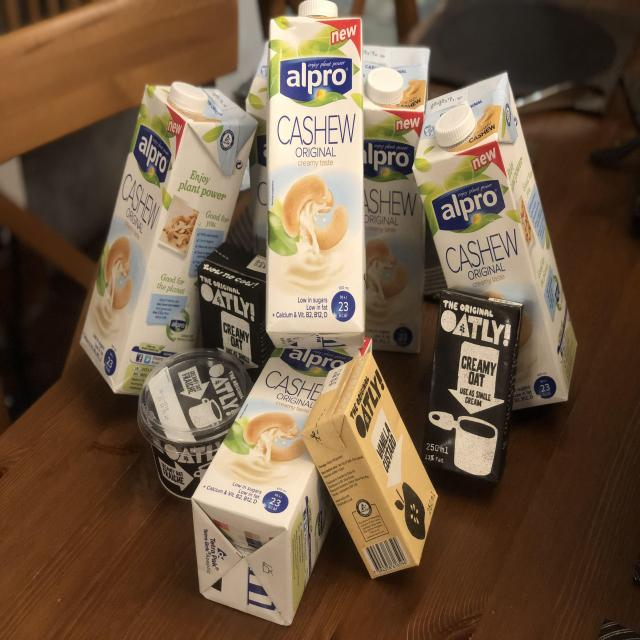drink carton: (411, 70, 579, 413), (80, 84, 260, 395), (191, 339, 373, 627), (266, 16, 366, 351), (304, 351, 440, 580), (362, 46, 435, 355), (418, 287, 525, 487), (197, 240, 274, 385)
plastic bottle cap: (435, 104, 477, 148), (365, 66, 404, 105), (169, 81, 209, 114), (298, 0, 338, 17)
